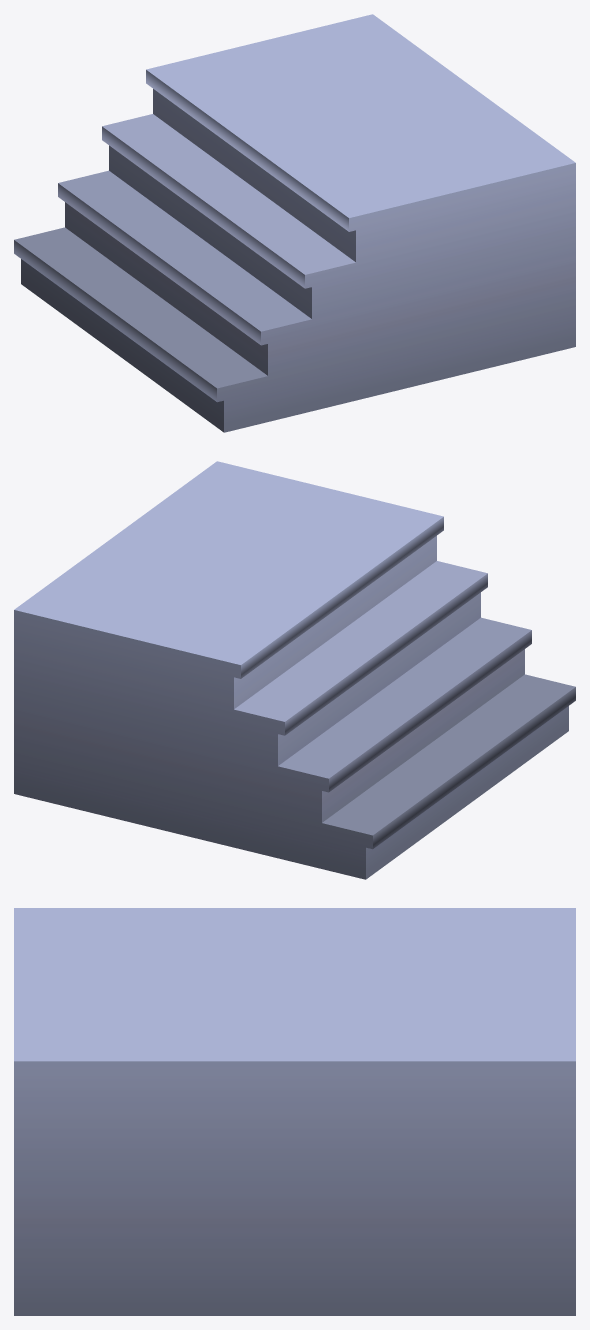
The model's file is kenney-fantasy-town-stairs-full.glb.
3 renders of one model, top to bottom at view 1: azimuth 30°, elevation 25°; view 2: azimuth 150°, elevation 25°; view 3: azimuth 270°, elevation 25°, orthographic. The views are drawn at different scales.
Visible parts, largest first — view 1: stairs-full; view 2: stairs-full; view 3: stairs-full.
Boxes of the visible parts, box(x1,y1,x2,y2) form: stairs-full: box(14, 14, 575, 432); stairs-full: box(14, 461, 575, 879); stairs-full: box(14, 908, 575, 1315).
Size of the model in its own units: 1.02 by 0.5 by 1.
1 material, 1 textured.
